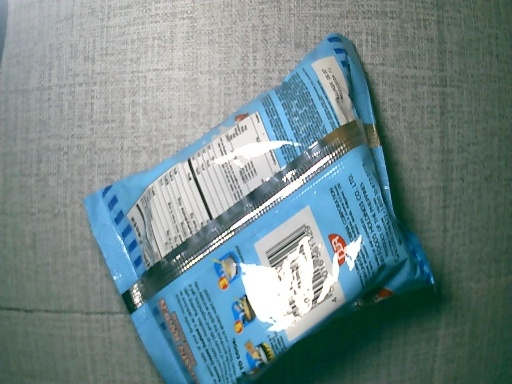plastic: (82, 33, 431, 384)
